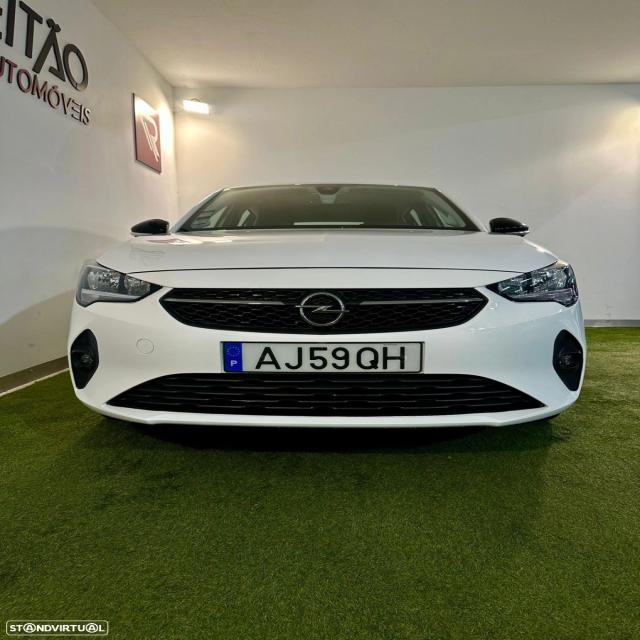portuguese-license-plates: (224, 342, 420, 372)
